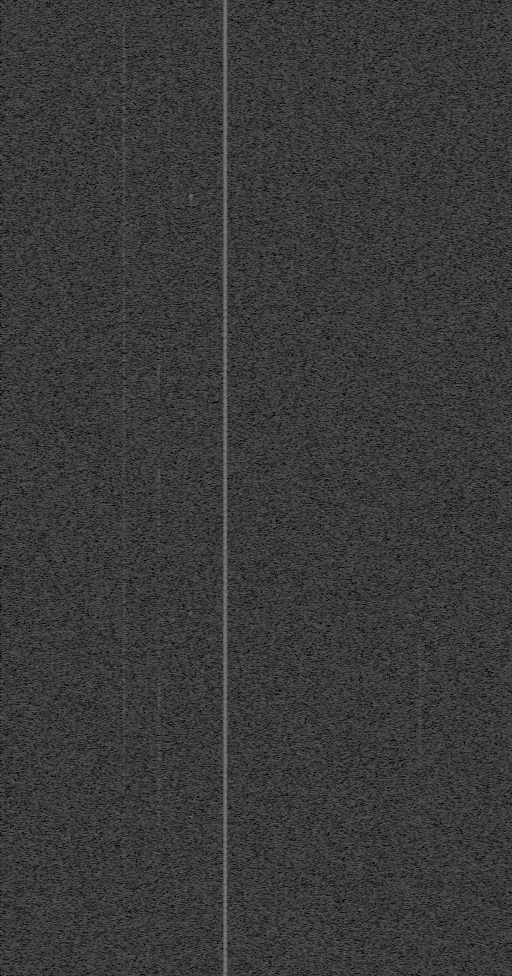wv_am: (222, 0, 228, 976)
wv_lsb: (122, 242, 126, 426), (122, 5, 127, 145), (122, 487, 126, 605), (122, 630, 127, 689), (122, 146, 126, 187), (122, 440, 126, 480), (188, 191, 194, 214), (122, 690, 127, 717), (122, 844, 126, 876), (122, 188, 126, 218), (122, 773, 126, 796), (122, 606, 126, 629), (122, 943, 126, 965), (122, 718, 126, 739), (188, 604, 193, 618), (122, 926, 126, 942), (122, 740, 126, 756), (122, 910, 126, 925), (122, 757, 126, 772), (189, 305, 193, 318), (122, 219, 126, 232), (122, 897, 126, 909), (122, 877, 126, 889), (122, 817, 126, 829), (122, 427, 126, 439), (122, 832, 126, 843), (188, 815, 194, 822), (122, 966, 126, 976), (189, 931, 193, 941), (122, 797, 126, 807), (189, 943, 193, 952), (189, 295, 193, 303), (122, 233, 126, 241), (189, 953, 193, 959), (122, 890, 126, 896), (189, 362, 193, 367), (189, 76, 193, 81), (189, 866, 193, 870), (189, 592, 193, 596), (190, 966, 193, 971), (189, 443, 192, 447), (189, 415, 193, 418), (189, 407, 193, 410), (189, 350, 193, 353), (189, 219, 193, 222), (189, 103, 192, 107), (122, 813, 126, 816), (189, 696, 193, 699), (189, 513, 193, 516)
wv_usb: (156, 742, 161, 794), (156, 468, 162, 508), (418, 741, 422, 789), (157, 520, 161, 564), (157, 315, 161, 358), (157, 566, 161, 606), (157, 398, 161, 438), (418, 633, 422, 673), (418, 698, 422, 737), (157, 76, 161, 112), (156, 359, 161, 385), (418, 257, 422, 289), (157, 668, 161, 695), (157, 715, 161, 740), (157, 115, 161, 139), (157, 901, 161, 920), (157, 647, 161, 666), (157, 264, 161, 283), (157, 811, 161, 829), (418, 814, 422, 832), (157, 939, 161, 956), (418, 790, 422, 806), (418, 674, 422, 689), (157, 961, 161, 976), (157, 620, 161, 634), (157, 284, 161, 298), (157, 192, 161, 206), (418, 855, 422, 869), (418, 840, 422, 854), (157, 696, 161, 709), (157, 213, 161, 226), (157, 871, 161, 883), (157, 795, 161, 807), (157, 926, 161, 938), (157, 884, 161, 895), (157, 839, 161, 850), (157, 607, 161, 618), (157, 449, 161, 460), (157, 58, 161, 69), (157, 46, 161, 57), (157, 33, 161, 43), (157, 19, 161, 29), (418, 305, 422, 315), (157, 388, 161, 397), (157, 236, 161, 245), (157, 171, 161, 180), (418, 295, 422, 304), (157, 860, 161, 868), (157, 830, 161, 838), (418, 930, 421, 940), (157, 5, 161, 12), (418, 690, 422, 697), (418, 384, 421, 393), (157, 461, 161, 467), (418, 898, 422, 904), (418, 871, 421, 879), (418, 833, 422, 839), (418, 429, 421, 437), (418, 351, 421, 359), (418, 191, 422, 197), (418, 144, 422, 150), (418, 419, 421, 426), (418, 325, 421, 332), (157, 853, 161, 858), (157, 641, 161, 646), (157, 635, 161, 640), (157, 509, 161, 514), (157, 443, 161, 448), (157, 309, 161, 314), (157, 299, 161, 304), (157, 207, 161, 212), (418, 886, 422, 891), (418, 201, 422, 206), (418, 182, 422, 187), (418, 172, 422, 177), (418, 163, 422, 168), (418, 154, 422, 159), (418, 945, 421, 951), (418, 905, 421, 911), (157, 710, 161, 714), (157, 515, 161, 519), (157, 256, 161, 260), (157, 247, 161, 251), (157, 231, 161, 235), (157, 70, 161, 74), (157, 13, 161, 17), (418, 917, 422, 921), (418, 880, 422, 884), (418, 290, 422, 294), (418, 342, 421, 347), (418, 220, 421, 225), (418, 210, 421, 215), (157, 439, 161, 442), (157, 305, 161, 308), (157, 227, 161, 230), (157, 188, 161, 191), (157, 140, 161, 143), (418, 926, 422, 929), (418, 913, 422, 916), (418, 624, 421, 628), (418, 239, 421, 243), (418, 230, 421, 234), (418, 136, 421, 140), (157, 922, 161, 925), (418, 952, 421, 955), (418, 368, 421, 371), (418, 360, 421, 363)
